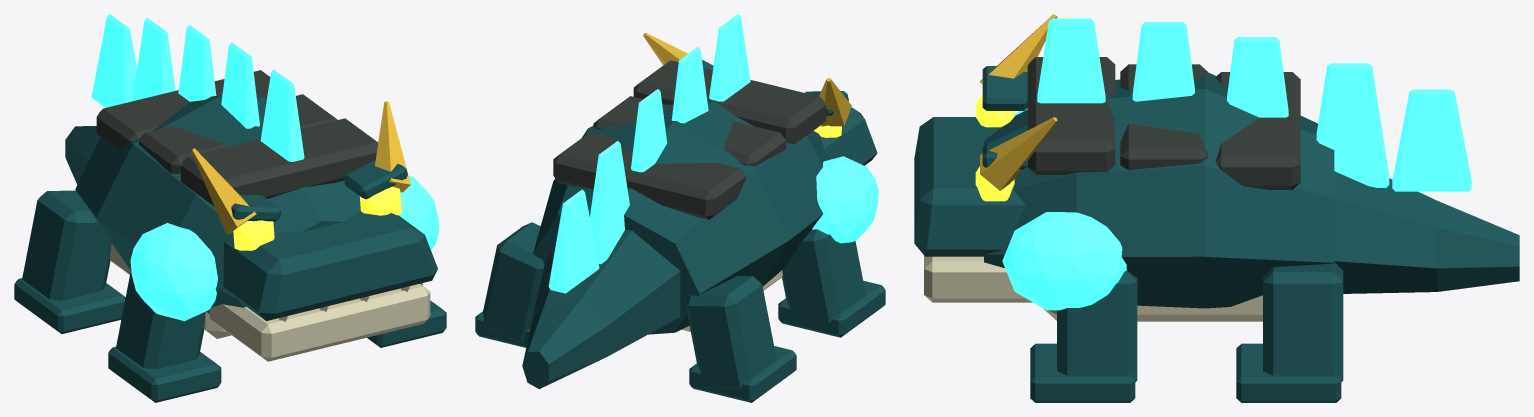
Rendered from EM_Mob_TidecrestSnapper.glb.
The picture shows the model from 3 angles, left to right: view 1: azimuth 30°, elevation 25°; view 2: azimuth 150°, elevation 25°; view 3: azimuth 270°, elevation 25°; orthographic projection. The views are drawn at different scales.
Parts seen in each view (by area): view 1: TidecrestSnapper__Legs__SnapperDeep, TidecrestSnapper__Head__SnapperDeep, TidecrestSnapper__Body__SnapperDeep, TidecrestSnapper__Body__StoneDark, TidecrestSnapper__Jaw__SnapperBelly, TidecrestSnapper__Head__AquaGlow, TidecrestSnapper__Body__AquaGlow, TidecrestSnapper__Tail__AquaGlow, TidecrestSnapper__Head__GoldMetal, TidecrestSnapper__Head__AmberGlow, TidecrestSnapper__Tail__SnapperDeep, TidecrestSnapper__Body__SnapperBelly; view 2: TidecrestSnapper__Legs__SnapperDeep, TidecrestSnapper__Body__SnapperDeep, TidecrestSnapper__Body__StoneDark, TidecrestSnapper__Tail__SnapperDeep, TidecrestSnapper__Tail__AquaGlow, TidecrestSnapper__Body__AquaGlow, TidecrestSnapper__Head__AquaGlow, TidecrestSnapper__Head__SnapperDeep, TidecrestSnapper__Head__GoldMetal; view 3: TidecrestSnapper__Body__SnapperDeep, TidecrestSnapper__Legs__SnapperDeep, TidecrestSnapper__Tail__SnapperDeep, TidecrestSnapper__Body__StoneDark, TidecrestSnapper__Body__AquaGlow, TidecrestSnapper__Tail__AquaGlow, TidecrestSnapper__Head__SnapperDeep, TidecrestSnapper__Head__AquaGlow, TidecrestSnapper__Jaw__SnapperBelly, TidecrestSnapper__Head__GoldMetal, TidecrestSnapper__Body__SnapperBelly, TidecrestSnapper__Head__AmberGlow.
Boxes of the visible parts, left/top/right/bottom form: TidecrestSnapper__Legs__SnapperDeep: left=14, top=190, right=446, bottom=402; TidecrestSnapper__Head__SnapperDeep: left=223, top=160, right=437, bottom=320; TidecrestSnapper__Body__SnapperDeep: left=75, top=95, right=360, bottom=313; TidecrestSnapper__Body__StoneDark: left=96, top=70, right=378, bottom=206; TidecrestSnapper__Jaw__SnapperBelly: left=209, top=284, right=430, bottom=361; TidecrestSnapper__Head__AquaGlow: left=130, top=176, right=439, bottom=320; TidecrestSnapper__Body__AquaGlow: left=178, top=25, right=304, bottom=161; TidecrestSnapper__Tail__AquaGlow: left=91, top=14, right=175, bottom=107; TidecrestSnapper__Head__GoldMetal: left=191, top=101, right=410, bottom=234; TidecrestSnapper__Head__AmberGlow: left=233, top=186, right=401, bottom=250; TidecrestSnapper__Tail__SnapperDeep: left=65, top=126, right=100, bottom=184; TidecrestSnapper__Body__SnapperBelly: left=109, top=244, right=231, bottom=338; TidecrestSnapper__Legs__SnapperDeep: left=475, top=222, right=885, bottom=402; TidecrestSnapper__Body__SnapperDeep: left=533, top=100, right=830, bottom=334; TidecrestSnapper__Body__StoneDark: left=553, top=60, right=826, bottom=219; TidecrestSnapper__Tail__SnapperDeep: left=522, top=230, right=680, bottom=389; TidecrestSnapper__Tail__AquaGlow: left=548, top=141, right=629, bottom=293; TidecrestSnapper__Body__AquaGlow: left=631, top=14, right=750, bottom=172; TidecrestSnapper__Head__AquaGlow: left=812, top=156, right=878, bottom=243; TidecrestSnapper__Head__SnapperDeep: left=702, top=60, right=877, bottom=165; TidecrestSnapper__Head__GoldMetal: left=643, top=33, right=851, bottom=126; TidecrestSnapper__Body__SnapperDeep: left=984, top=72, right=1334, bottom=308; TidecrestSnapper__Legs__SnapperDeep: left=1030, top=262, right=1343, bottom=402; TidecrestSnapper__Tail__SnapperDeep: left=1334, top=171, right=1519, bottom=293; TidecrestSnapper__Body__StoneDark: left=1027, top=57, right=1300, bottom=189; TidecrestSnapper__Body__AquaGlow: left=1037, top=18, right=1288, bottom=117; TidecrestSnapper__Tail__AquaGlow: left=1316, top=63, right=1471, bottom=191; TidecrestSnapper__Head__SnapperDeep: left=914, top=66, right=1027, bottom=256; TidecrestSnapper__Head__AquaGlow: left=1002, top=108, right=1126, bottom=310; TidecrestSnapper__Jaw__SnapperBelly: left=924, top=255, right=1032, bottom=302; TidecrestSnapper__Head__GoldMetal: left=980, top=14, right=1057, bottom=190; TidecrestSnapper__Body__SnapperBelly: left=1043, top=295, right=1262, bottom=321; TidecrestSnapper__Head__AmberGlow: left=975, top=94, right=1014, bottom=201.
Size of the model in its own units: 4.4 by 4 by 7.12.
